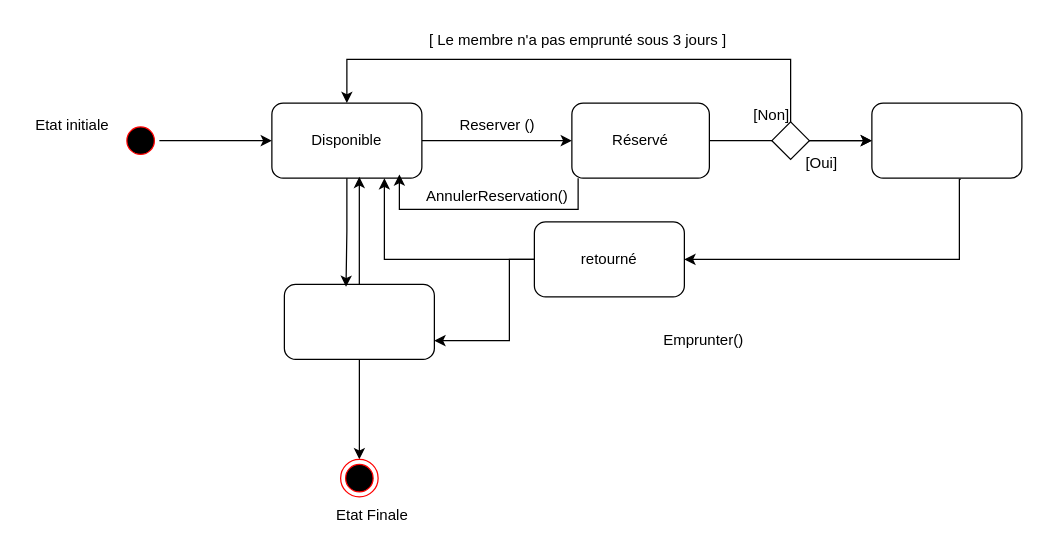
The diagram is 1044 pixels wide and 555 high, and some of its shapes have lost their labels. The centre of each missing label's shape, as x and y in pixels:
Emprunté: point 946,140
indisponible: point 358,321
